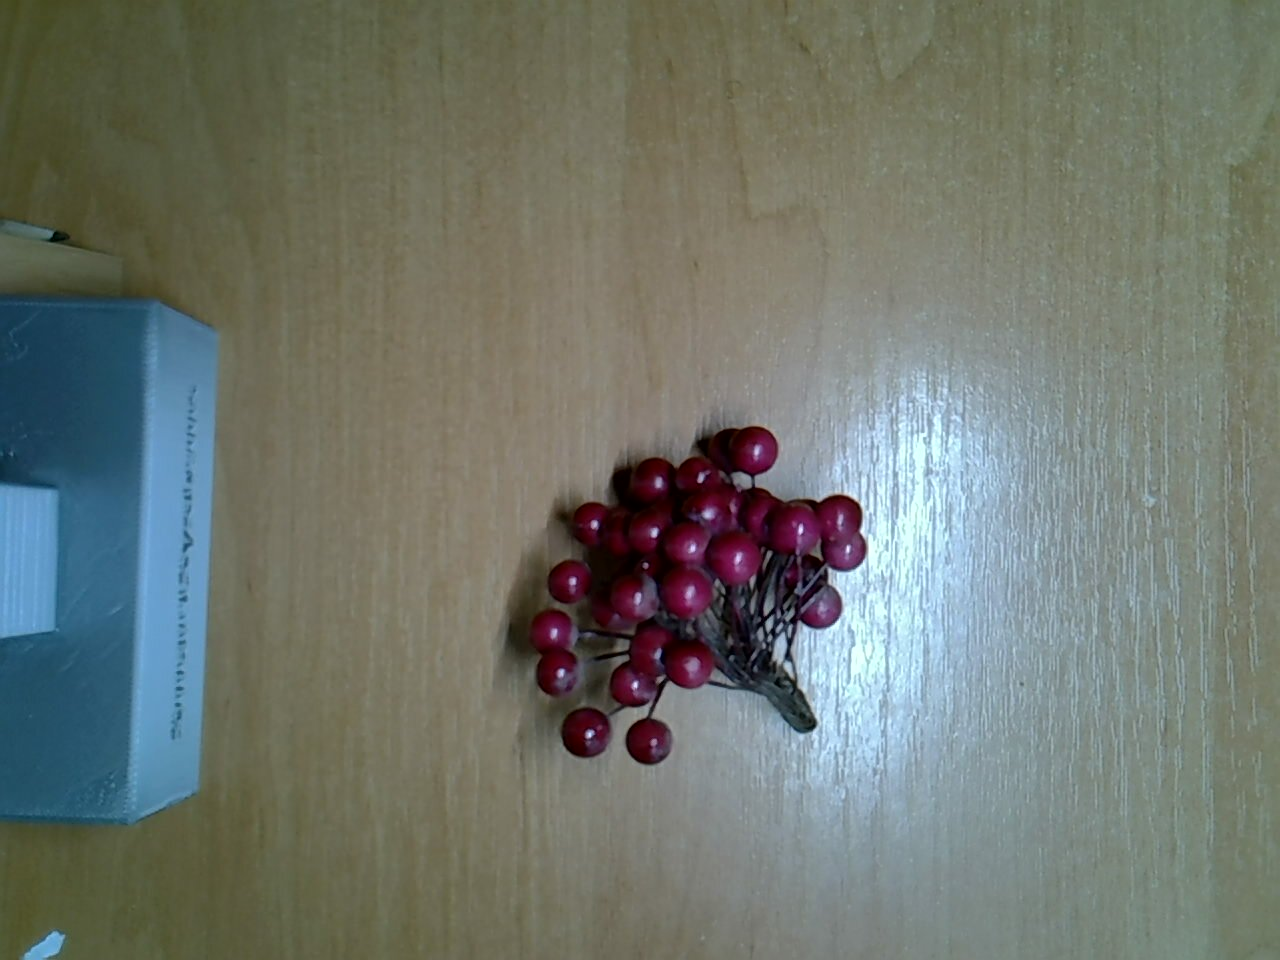berries: (499, 412, 877, 770)
